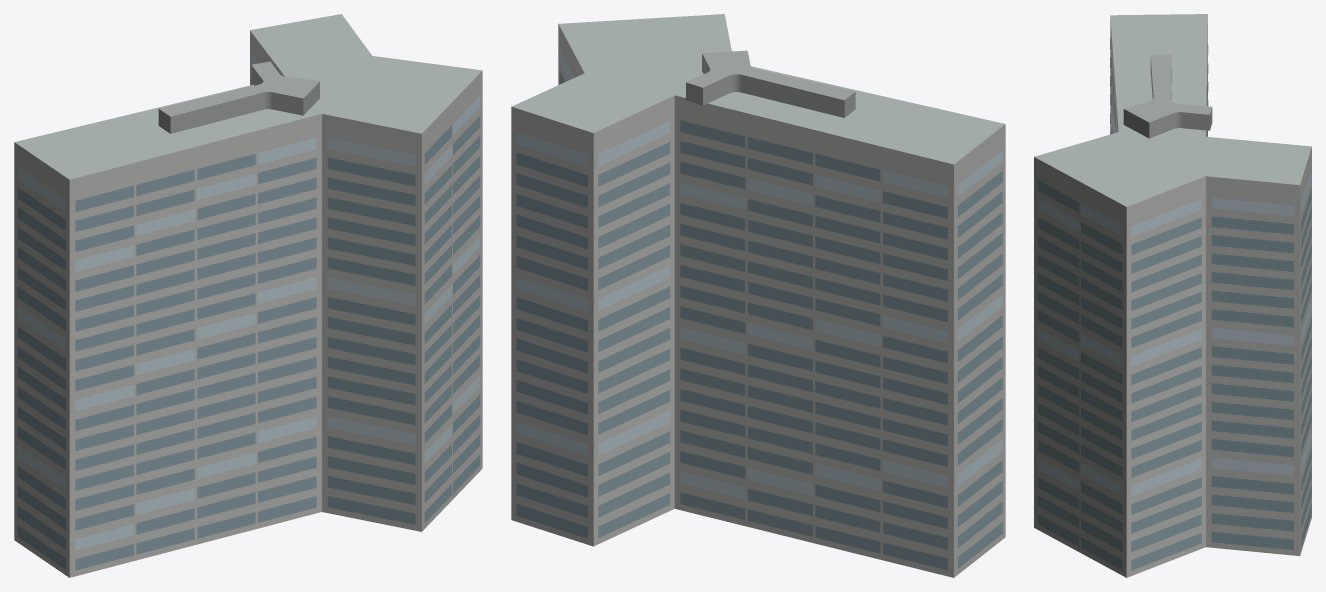
File: fallback-godeok-ipark-101.glb
3 views of the same model, side by side, from view 1: azimuth 30°, elevation 25°; view 2: azimuth 150°, elevation 25°; view 3: azimuth 270°, elevation 25° (orthographic). The views are drawn at different scales.
Visible parts, largest first — view 1: fallback-godeok-ipark-101; view 2: fallback-godeok-ipark-101; view 3: fallback-godeok-ipark-101.
Boxes of the visible parts, bbox=[...] form: fallback-godeok-ipark-101: bbox=[14, 14, 482, 577]; fallback-godeok-ipark-101: bbox=[511, 14, 1005, 577]; fallback-godeok-ipark-101: bbox=[1034, 14, 1311, 577].
Size of the model in its own units: 62.07 by 58 by 37.76.
